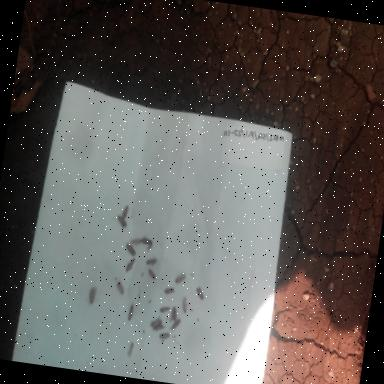pbw: (86, 283, 98, 306), (114, 214, 129, 232), (172, 272, 188, 286), (124, 242, 138, 258), (119, 202, 130, 221), (193, 284, 206, 300), (114, 279, 126, 296), (180, 295, 190, 315), (150, 322, 166, 334), (124, 257, 136, 273), (126, 340, 136, 358), (140, 236, 154, 248), (150, 316, 164, 328), (162, 285, 176, 297), (126, 303, 135, 321), (168, 306, 178, 322), (130, 236, 143, 248), (158, 330, 172, 341), (158, 304, 170, 316), (146, 256, 158, 268), (146, 268, 156, 282), (170, 318, 180, 332)
